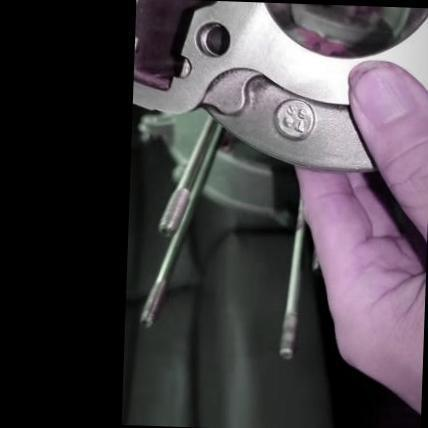hole: (192, 18, 231, 58)
